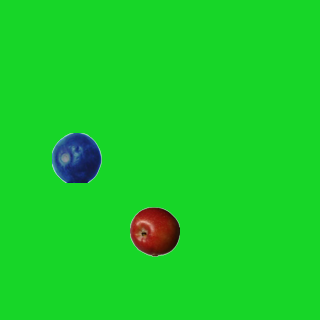Apple Braeburn: (129, 206, 179, 256)
Huckleberry: (51, 132, 101, 182)
